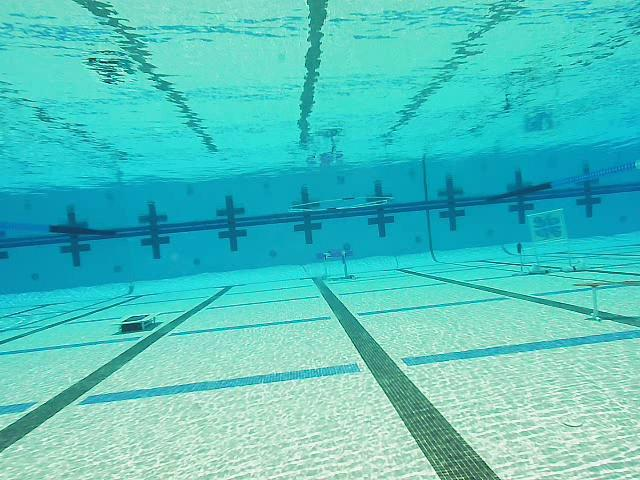table: (316, 249, 354, 280)
torpedo: (529, 208, 566, 245)
